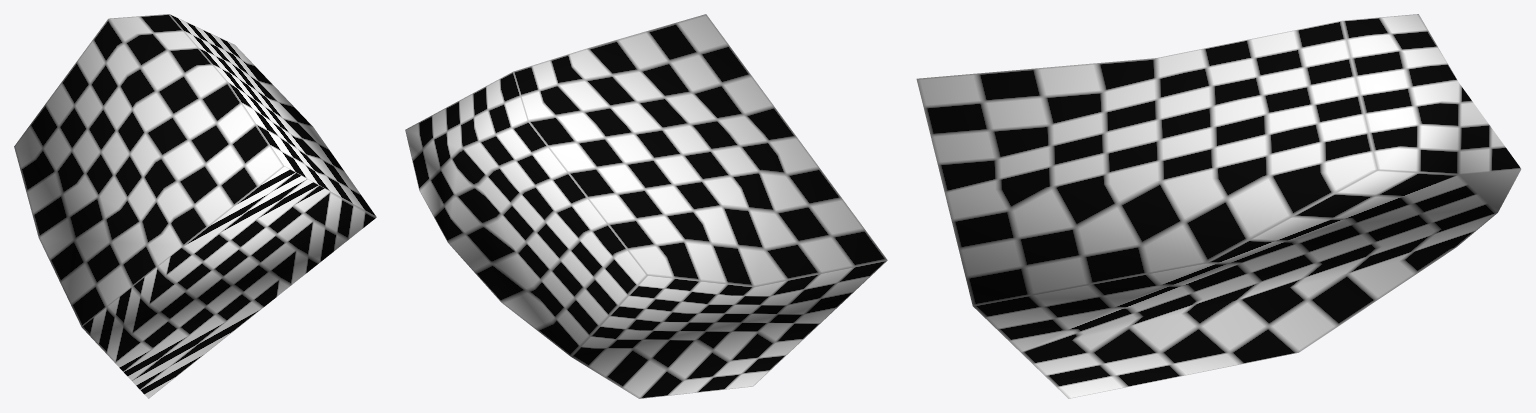
The model's file is initqu47.dae.
The picture shows the model from 3 angles, left to right: view 1: azimuth 30°, elevation 25°; view 2: azimuth 150°, elevation 25°; view 3: azimuth 270°, elevation 25°; orthographic projection. The views are drawn at different scales.
Visible parts, largest first — view 1: item; view 2: item; view 3: item.
Part boxes in pixels (box(x1,y1,x2,y2)): item: box(14, 14, 376, 398); item: box(405, 14, 887, 398); item: box(916, 14, 1521, 398).
Size of the model in its own units: 0.9667 by 1.09 by 0.9157.
1 material, 1 textured.
